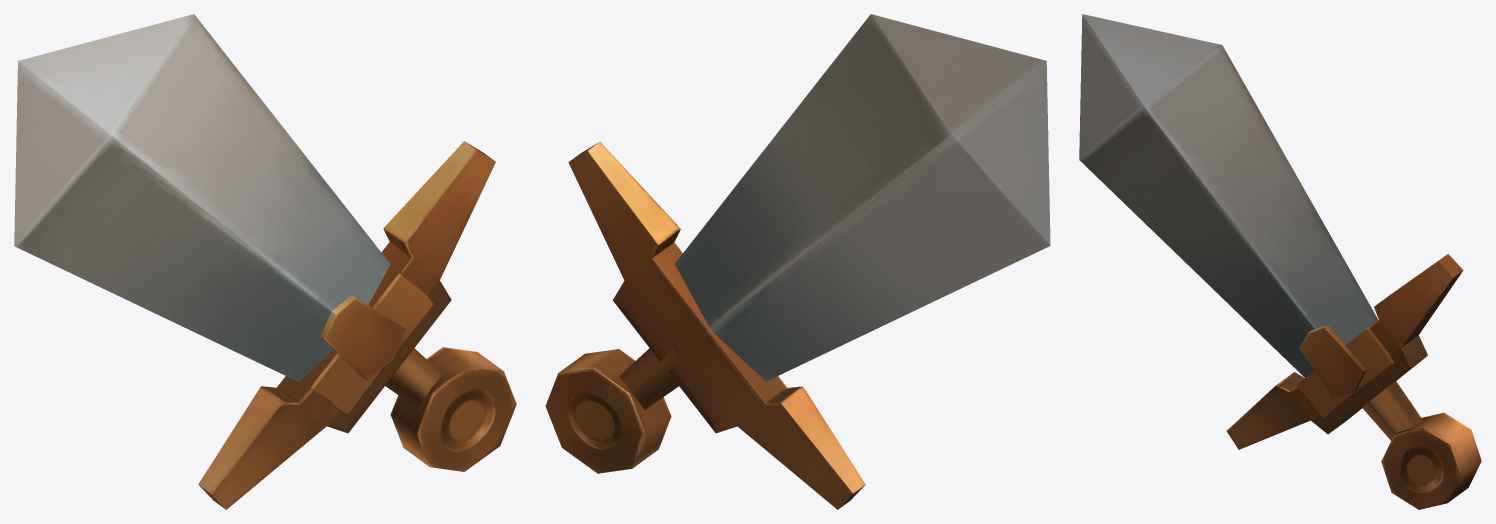
File: 11_sword.FBX
3 renders of one model, left to right at view 1: azimuth 30°, elevation 25°; view 2: azimuth 150°, elevation 25°; view 3: azimuth 330°, elevation 25°, orthographic. The views are drawn at different scales.
Visible parts, largest first — view 1: 11_sword; view 2: 11_sword; view 3: 11_sword.
Boxes of the visible parts, <box> form: 11_sword: <box>14,14,516,509</box>; 11_sword: <box>545,14,1050,509</box>; 11_sword: <box>1079,14,1481,509</box>.
Size of the model in its own units: 44.47 by 44.38 by 4.99.
